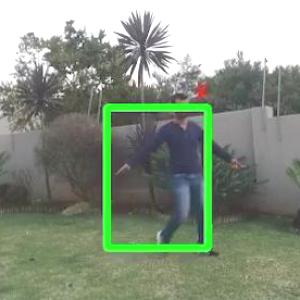land: (111, 90, 246, 256)
